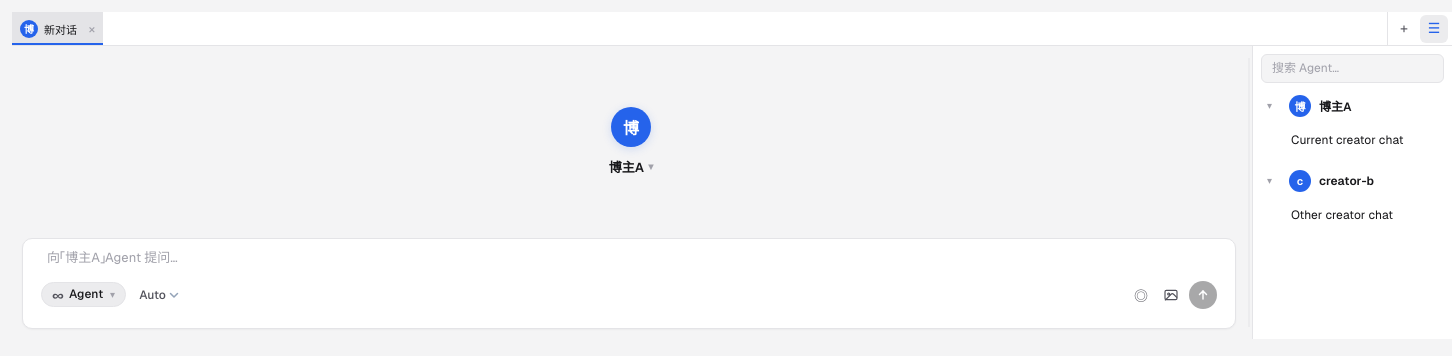
Test: Agent pane acceptance (A5/A6/A10) › A6: assistant messages show process row and footer
Click the button "Current creator chat" at (1350, 140), box [1291,132,1410,148]
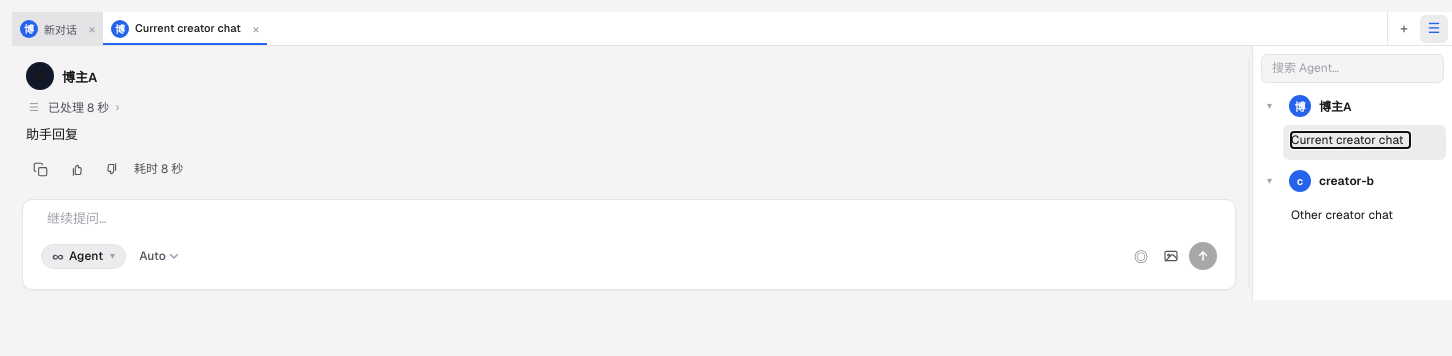
Expected: the element with class "chat-msg-agent" is shown, [26,62,183,183]
Expected: the text "已处理 8 秒" is shown, [48,98,109,116]
Expected: the element with class "chat-msg-footer" is shown, [26,155,183,183]
